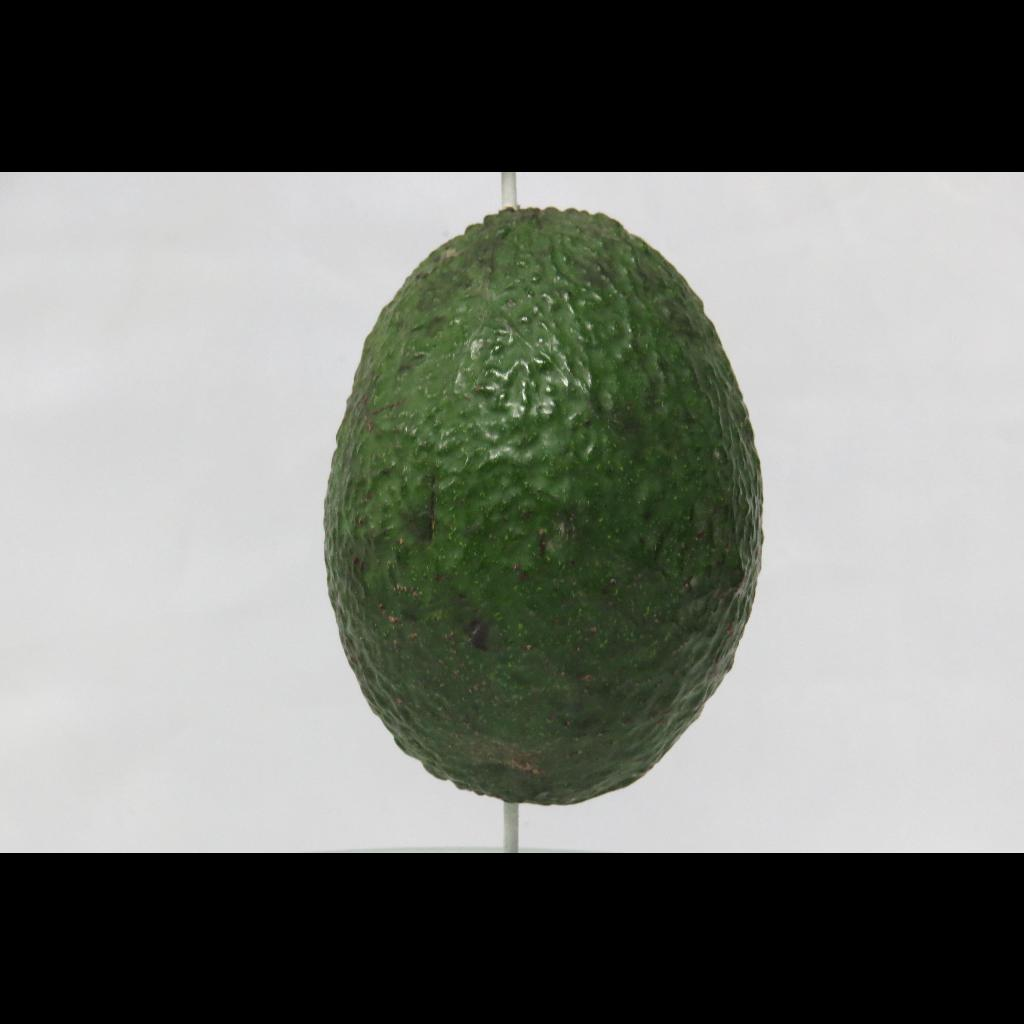Healthy: (296, 180, 778, 828)
